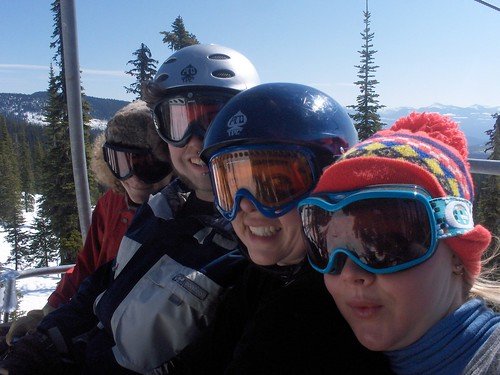helmet: (203, 81, 358, 149), (148, 40, 255, 86)
